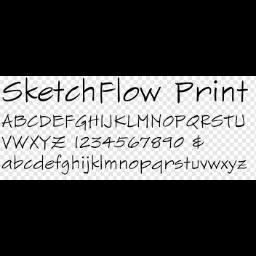f: (96, 80, 116, 108)
i: (99, 113, 103, 129)
p: (174, 80, 194, 106)
s: (0, 78, 24, 108)
